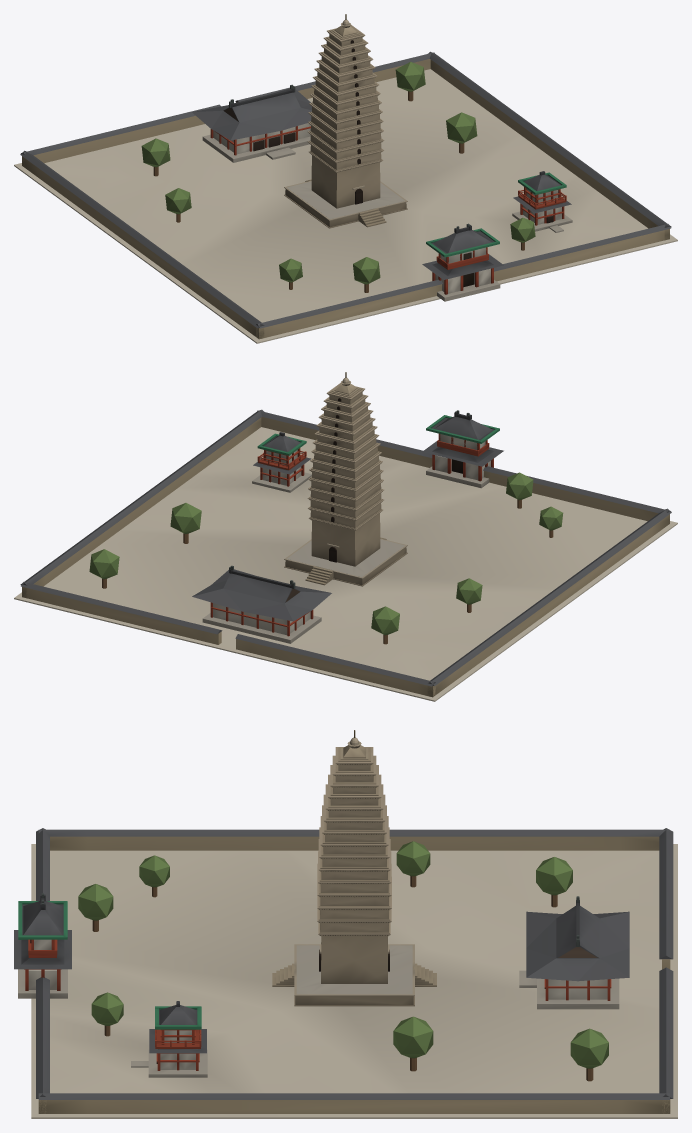
File: lesser-goose.glb
3 renders of one model, top to bottom at view 1: azimuth 30°, elevation 25°; view 2: azimuth 150°, elevation 25°; view 3: azimuth 270°, elevation 25°, orthographic. The views are drawn at different scales.
Parts seen in each view (by area): view 1: p0_court, p1_halls, p2_trees; view 2: p0_court, p1_halls, p2_trees; view 3: p0_court, p1_halls, p2_trees.
Part boxes in pixels (left/top/right/bottom): p0_court: left=14, top=51, right=677, bottom=343; p1_halls: left=202, top=14, right=572, bottom=301; p2_trees: left=141, top=61, right=571, bottom=292; p0_court: left=14, top=409, right=677, bottom=701; p1_halls: left=202, top=372, right=493, bottom=643; p2_trees: left=89, top=410, right=563, bottom=644; p0_court: left=31, top=828, right=677, bottom=1118; p1_halls: left=18, top=730, right=619, bottom=1077; p2_trees: left=14, top=841, right=629, bottom=1081.
Bounding box in the file's own units: 110 × 47.32 × 113.
